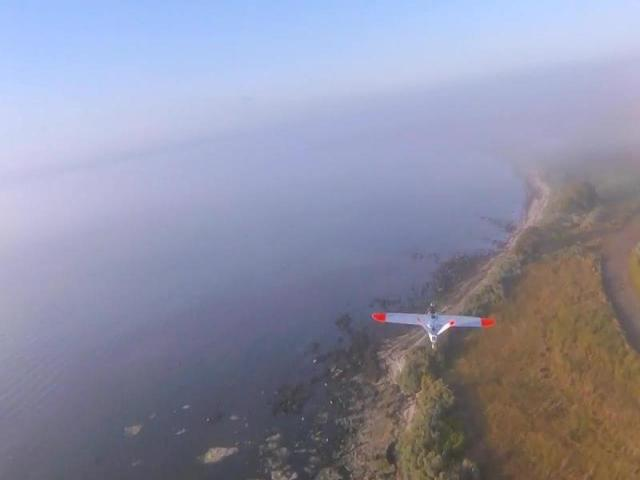hedef: (364, 299, 502, 359)
